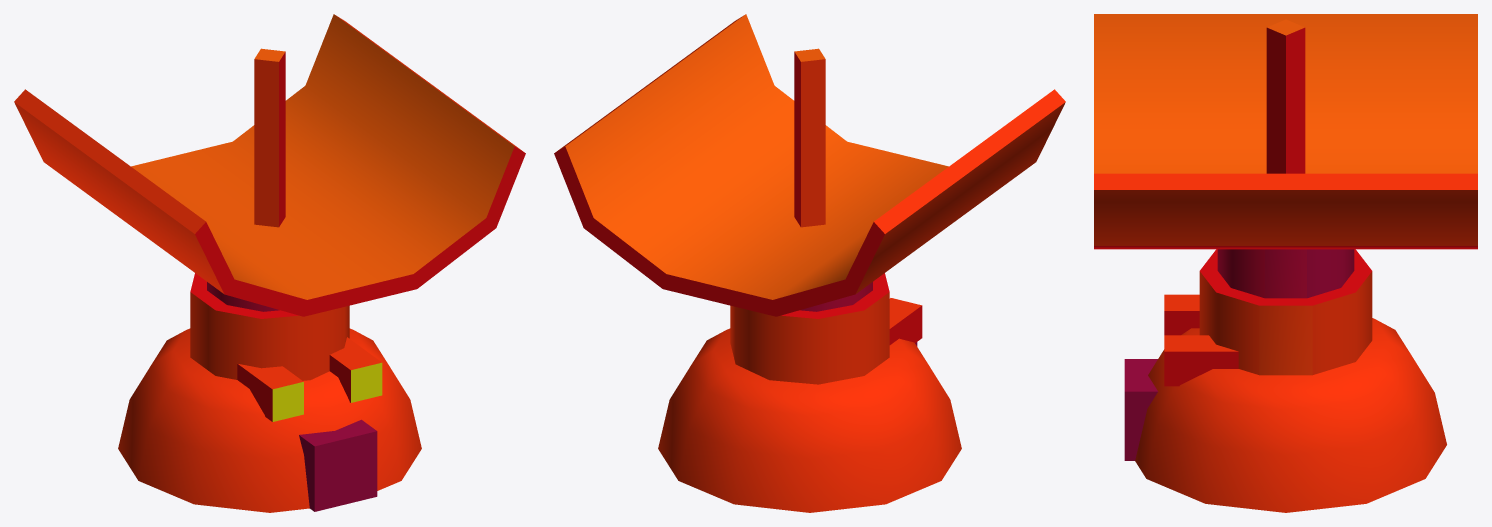
File: Lab.OrangeStar.glb
3 views of the same model, side by side, from view 1: azimuth 30°, elevation 25°; view 2: azimuth 150°, elevation 25°; view 3: azimuth 270°, elevation 25° (orthographic). The views are drawn at different scales.
Visible parts, largest first — view 1: Lab.OrangeStar; view 2: Lab.OrangeStar; view 3: Lab.OrangeStar.
Part boxes in pixels (left/top/right/bottom): Lab.OrangeStar: left=14, top=14, right=525, bottom=512; Lab.OrangeStar: left=554, top=14, right=1065, bottom=512; Lab.OrangeStar: left=1094, top=14, right=1477, bottom=512.
Size of the model in its own units: 2.11 by 2.41 by 2.
Materials: 2 (1 with a texture image).
